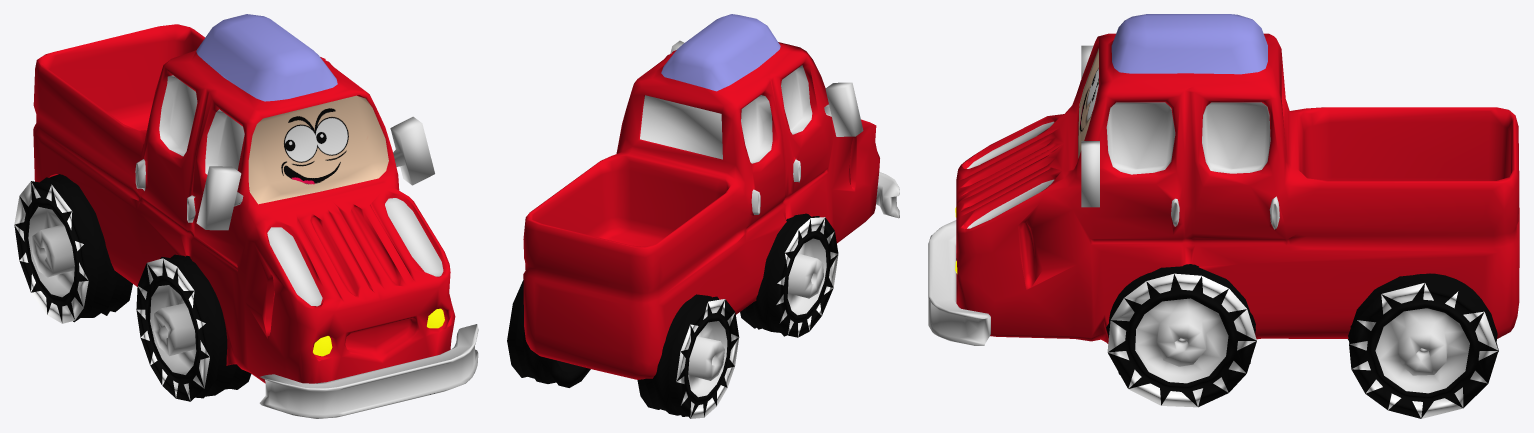
File: car.fbx
3 renders of one model, left to right at view 1: azimuth 30°, elevation 25°; view 2: azimuth 150°, elevation 25°; view 3: azimuth 270°, elevation 25°, orthographic. The views are drawn at different scales.
Parts seen in each view (by area): view 1: Car; view 2: Car; view 3: Car.
Boxes of the visible parts, x1,y1,x2,y2 form: Car: [14, 14, 478, 418]; Car: [507, 14, 899, 418]; Car: [928, 14, 1519, 418].
Size of the model in its own units: 0.4114 by 0.5901 by 0.9072.
